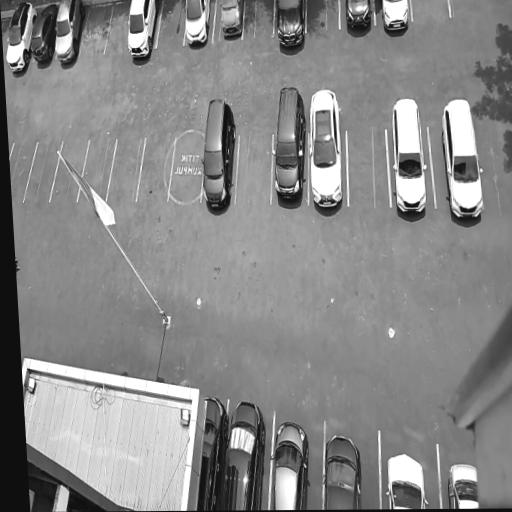Car: (266, 79, 315, 218), (437, 94, 487, 229), (384, 92, 433, 228), (219, 395, 273, 511), (303, 84, 349, 214), (189, 394, 233, 511), (267, 419, 318, 510), (199, 95, 237, 214), (320, 434, 369, 510), (386, 448, 431, 509), (4, 0, 38, 76), (52, 0, 87, 69), (123, 0, 161, 61), (443, 456, 482, 509), (274, 0, 311, 53), (30, 0, 60, 64), (183, 0, 212, 50), (378, 0, 415, 37), (342, 0, 375, 37), (217, 0, 245, 39)
Space Available: (347, 127, 390, 208), (474, 122, 512, 207), (236, 134, 272, 206), (76, 138, 116, 202), (136, 137, 175, 201), (106, 138, 145, 202), (23, 140, 63, 202), (49, 140, 88, 201), (167, 139, 204, 202), (80, 0, 113, 55), (10, 140, 37, 202), (105, 0, 131, 54), (157, 0, 185, 48), (243, 0, 274, 38), (305, 0, 340, 31), (411, 0, 451, 19)
